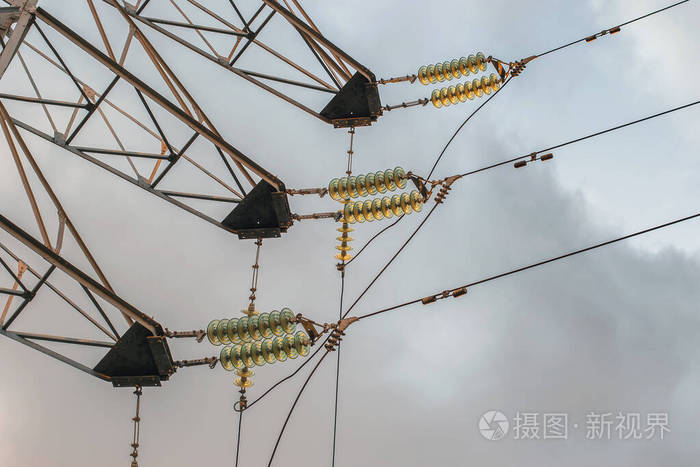insulator: (219, 332, 312, 372), (205, 309, 300, 346), (326, 168, 413, 202), (418, 50, 492, 87), (431, 74, 500, 110), (346, 193, 426, 223), (334, 223, 356, 263)
